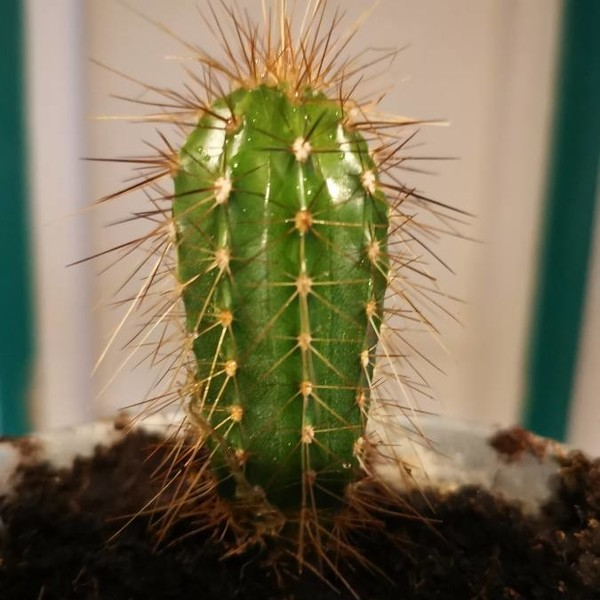obstacle: (111, 12, 443, 547)
